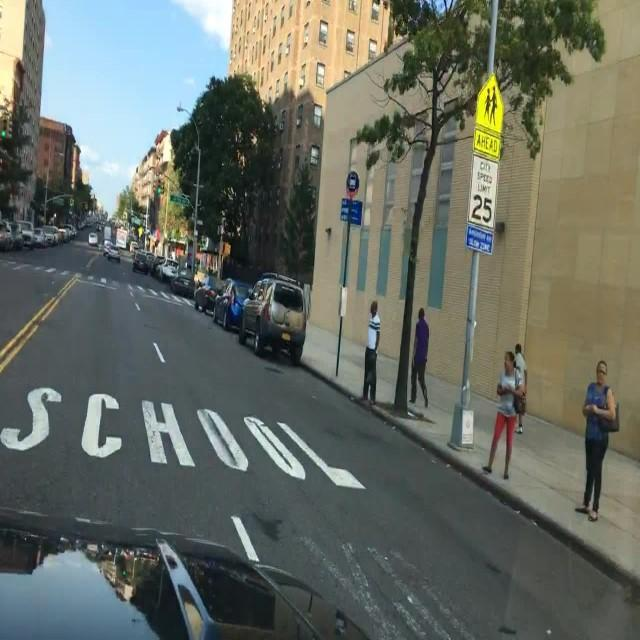normal: (135, 237, 331, 384), (0, 205, 90, 266)
